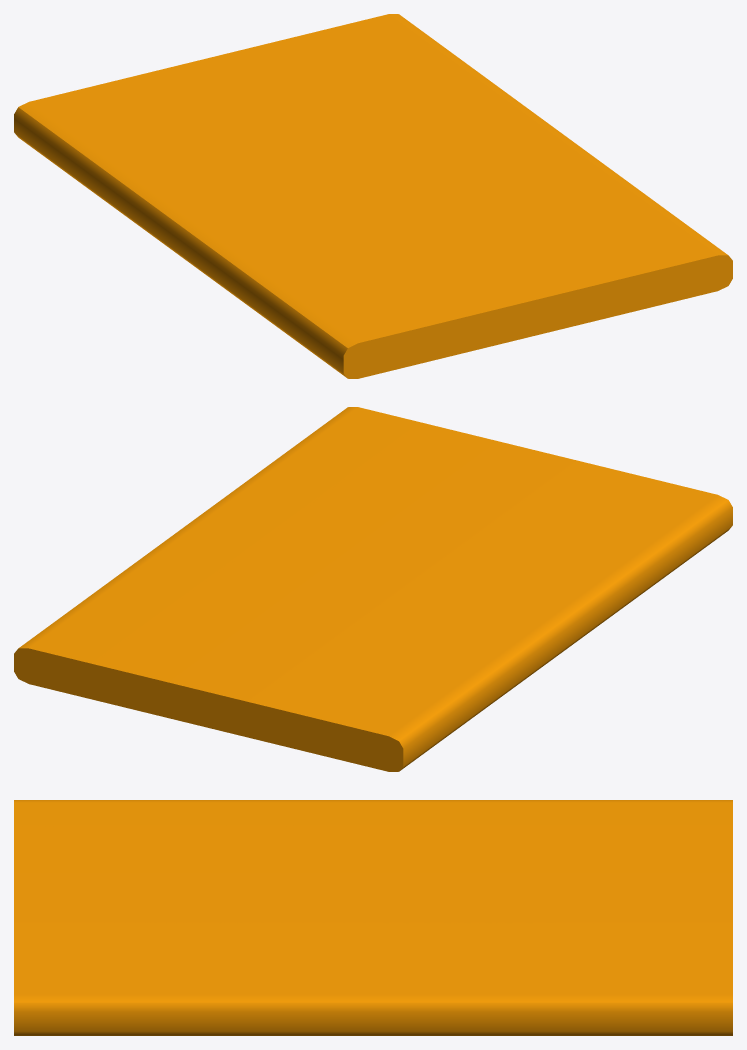
File: trap_04.fbx
3 views of the same model, one above another, from view 1: azimuth 30°, elevation 25°; view 2: azimuth 150°, elevation 25°; view 3: azimuth 270°, elevation 25° (orthographic). The views are drawn at different scales.
Parts seen in each view (by area): view 1: trap_04_L, trap_04_R; view 2: trap_04_L, trap_04_R; view 3: trap_04_R, trap_04_L.
Boxes of the visible parts, x1,y1,x2,y2 form: trap_04_L: (14,58,538,378); trap_04_R: (209,14,732,334); trap_04_L: (208,451,732,771); trap_04_R: (14,407,537,727); trap_04_R: (14,898,732,1035); trap_04_L: (14,800,732,898).
Bounding box in the file's own units: 1172 × 103 × 1719.
1 material, 1 textured.
